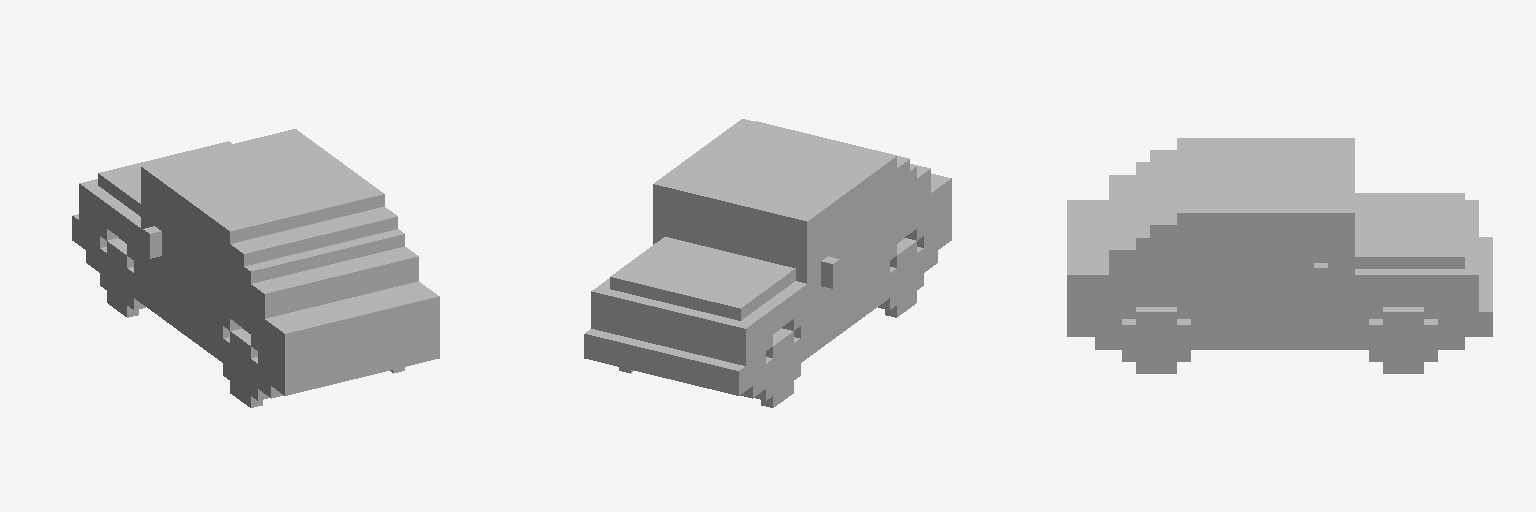
Rendered from blus car.obj.
3 renders of one model, left to right at view 1: azimuth 30°, elevation 25°; view 2: azimuth 150°, elevation 25°; view 3: azimuth 270°, elevation 25°, orthographic.
Visible parts, largest first — view 1: object 1; view 2: object 1; view 3: object 1.
Part boxes in pixels (x1,y1,x2,y2): object 1: (72,129,439,407); object 1: (584,119,951,407); object 1: (1067,138,1492,373).
Size of the model in its own units: 1.5 by 1.3 by 3.1.